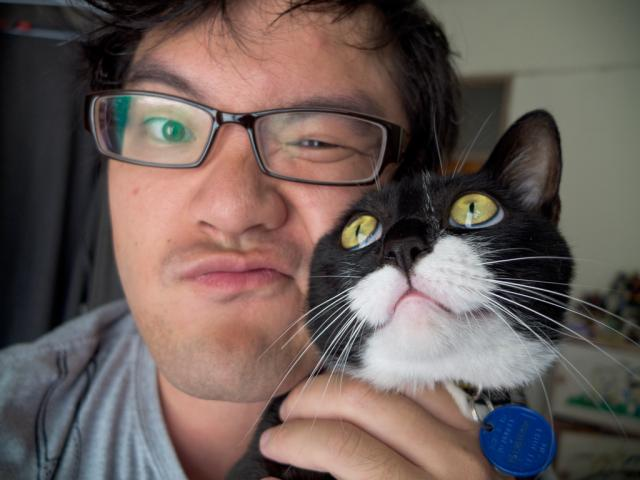Cat: (222, 111, 640, 480)
